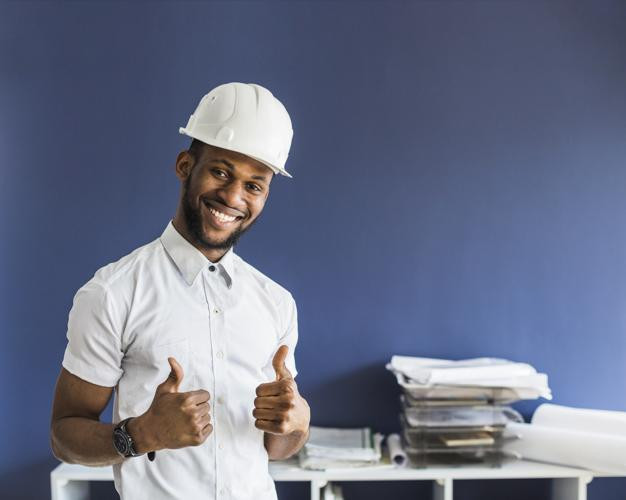thumbsup: (167, 357, 213, 447), (252, 345, 295, 434)
